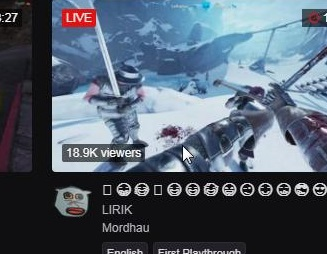cursor: (180, 144, 195, 166)
